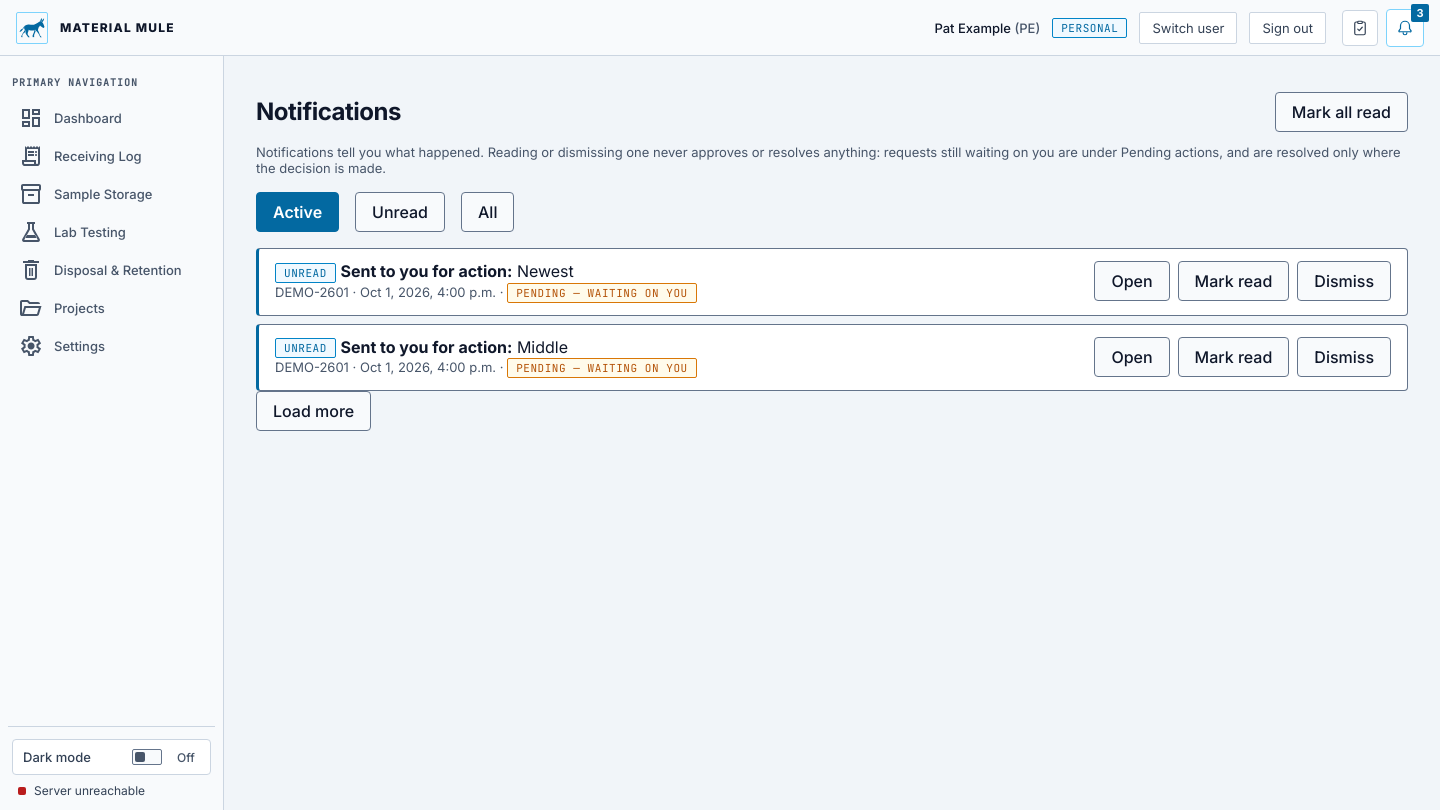
Test: Notification center paging (MM-T91 review) › Load more appends the next, older page and disappears on the last one
Check: the list item "Newest" is shown, box [256,248,1408,316]
Check: the list item "Oldest" is not shown
What coordinates should you click on to do the following:
click the button "Load more"
I would click on:
 (314, 411)
Its box is [256,391,371,431].
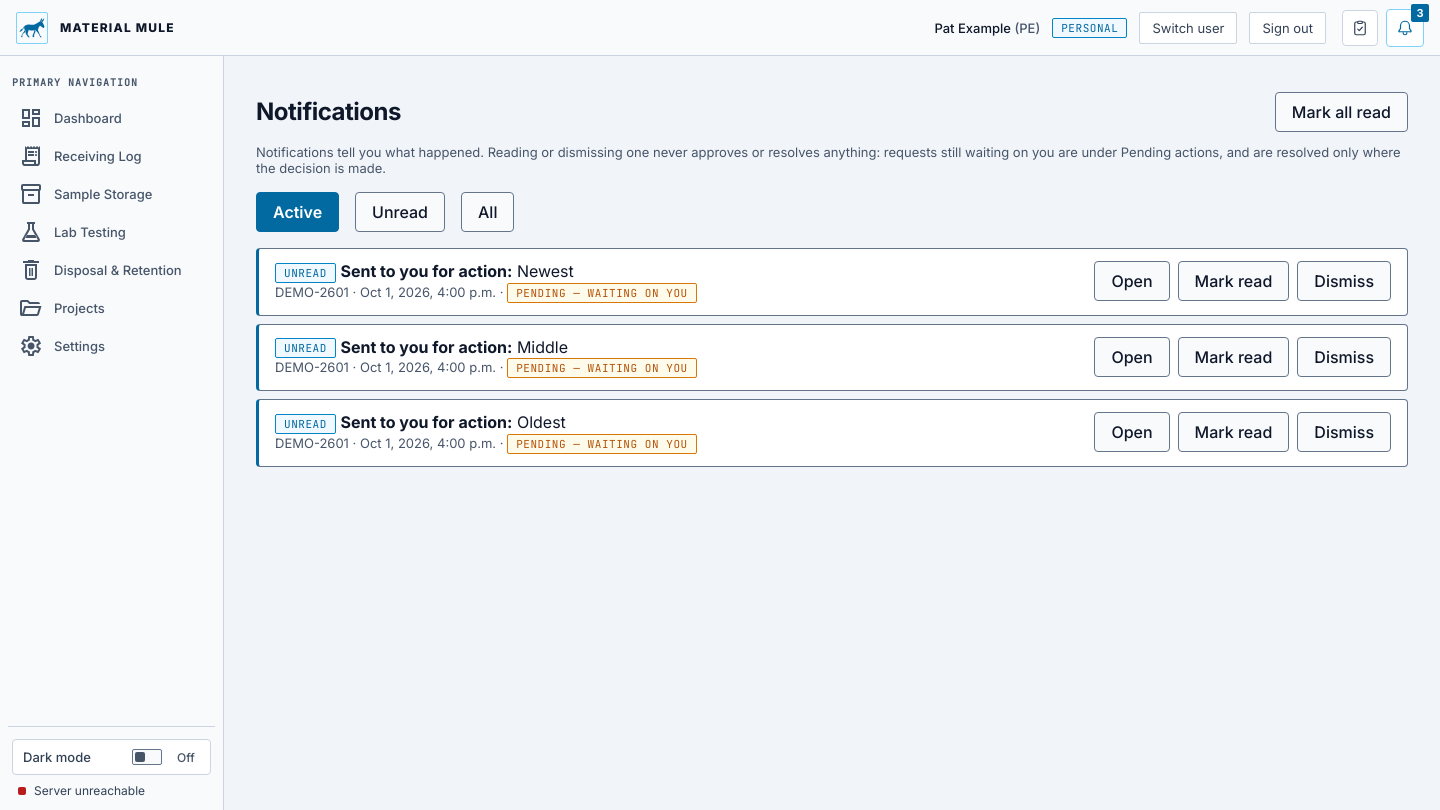
Check: the list item "Oldest" is shown, box [256,399,1408,467]
Check: the button "Load more" is gone
